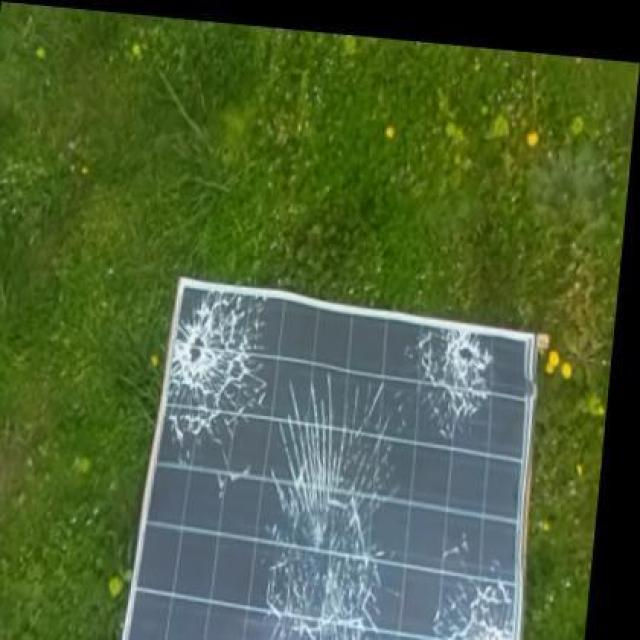cracked: (127, 274, 542, 640)
